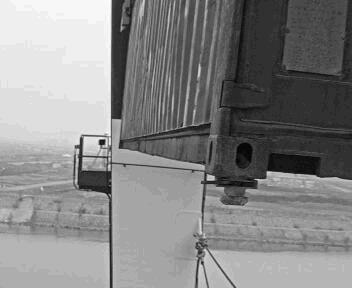twist_lock_1: (204, 173, 266, 213)
